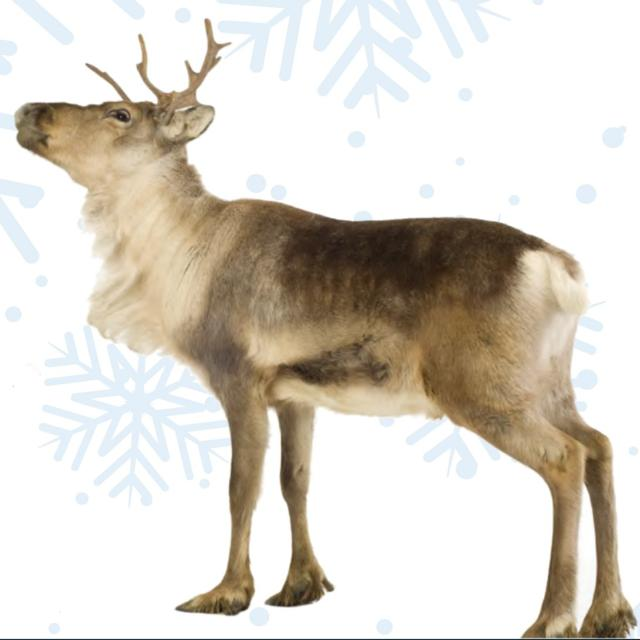Reindeer: (12, 9, 639, 640)
